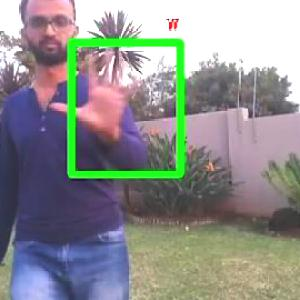follow_hand: (49, 40, 144, 139)
